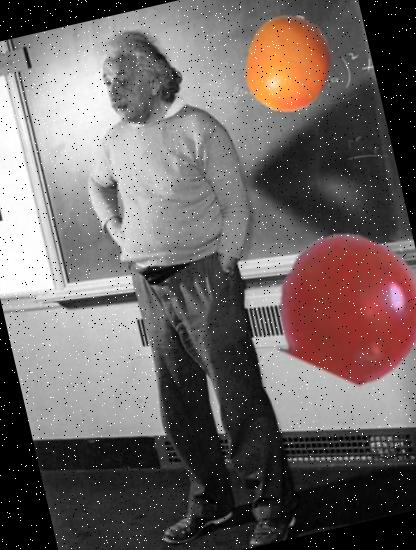Grapefruit: (229, 3, 346, 121)
Redcurrant: (264, 218, 416, 395)
